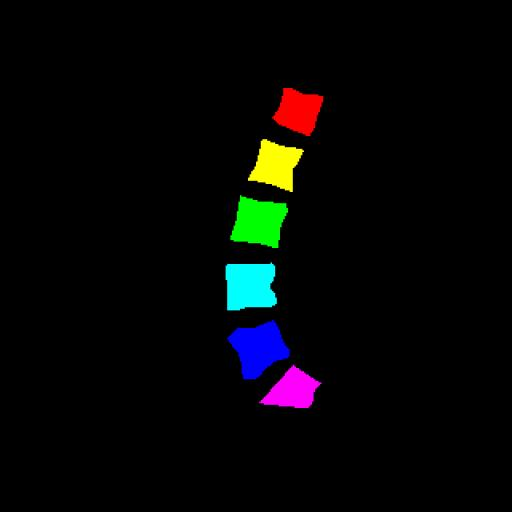L1: (273, 88, 323, 136)
L2: (248, 139, 303, 192)
L3: (230, 196, 288, 248)
L4: (226, 263, 279, 311)
L5: (228, 321, 289, 378)
S1: (260, 365, 321, 408)
